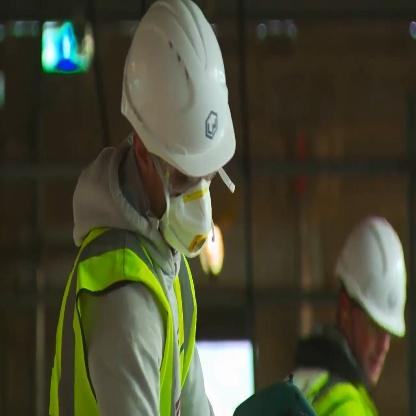helmet: (97, 0, 242, 284), (309, 210, 415, 407)
